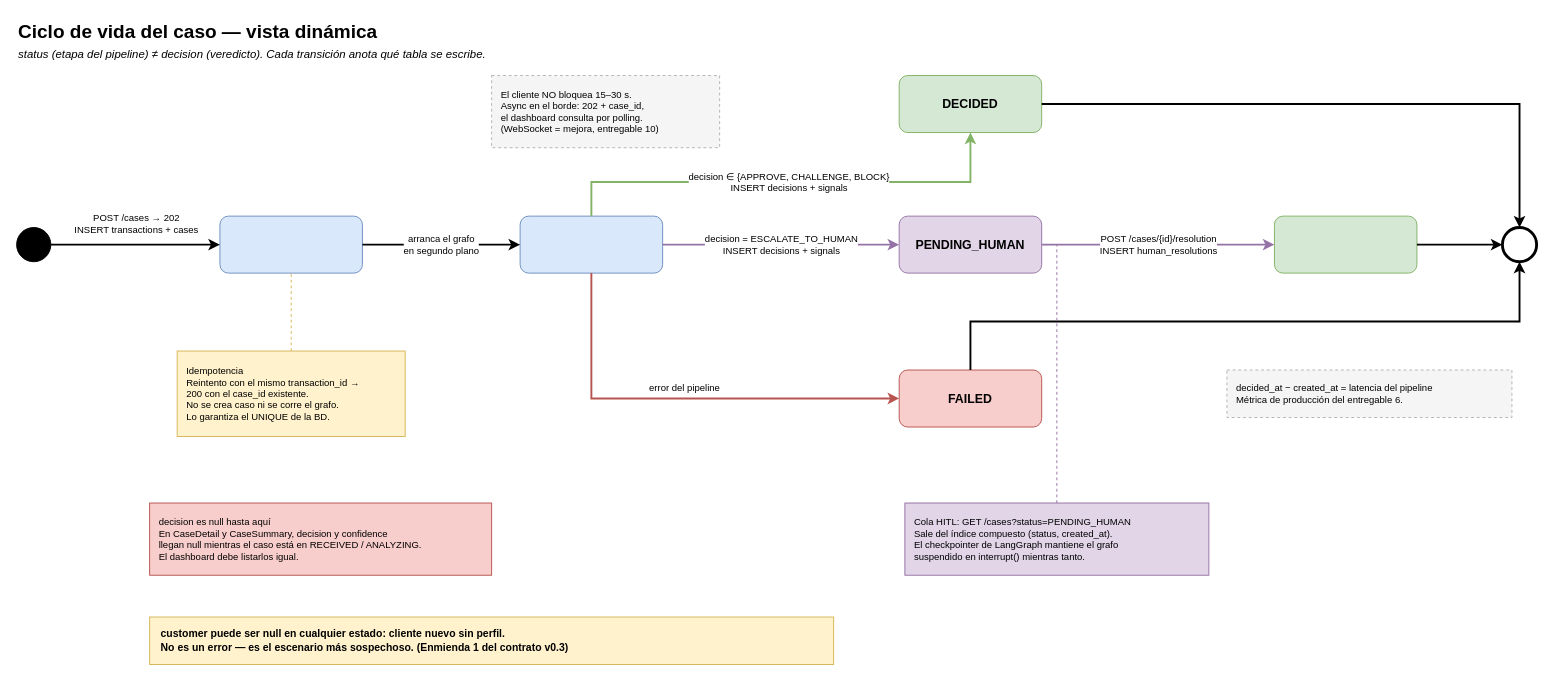
Some shapes in this 1554 by 681 pixel diagram are drawn without their labels. The centre of each missing label's shape, as x and y in pixels:
"ANALYZING" belongs at pixel 591 244.
"RECEIVED" belongs at pixel 290 244.
"RESOLVED" belongs at pixel 1345 244.
